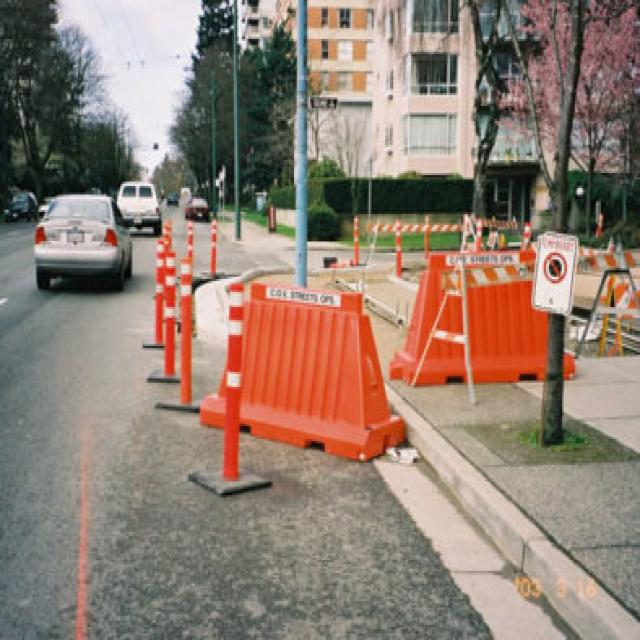cone: (198, 276, 406, 462), (388, 244, 575, 387)
